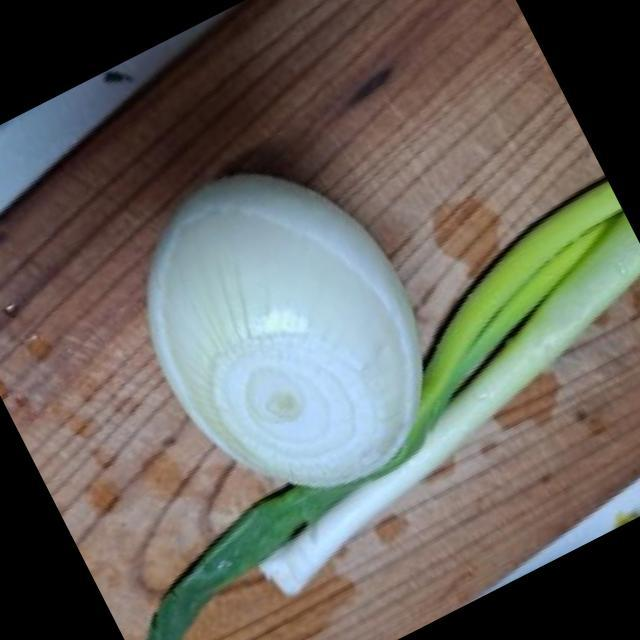Onion: (146, 178, 424, 487)
